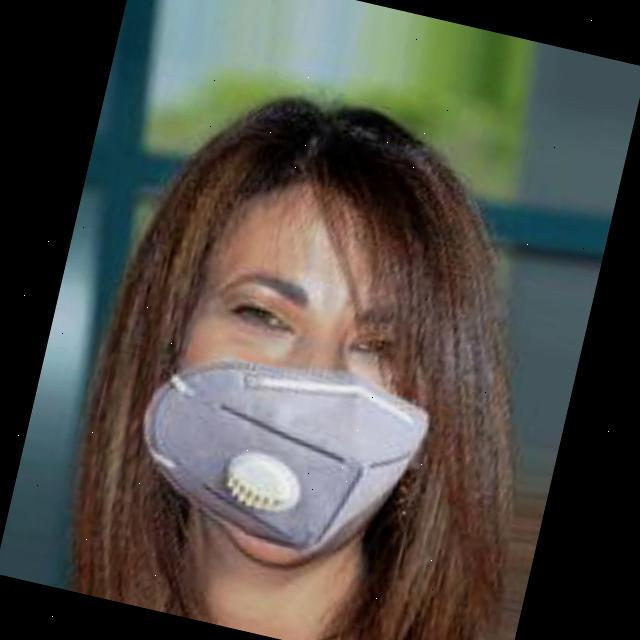suspicion: (96, 113, 532, 631)
